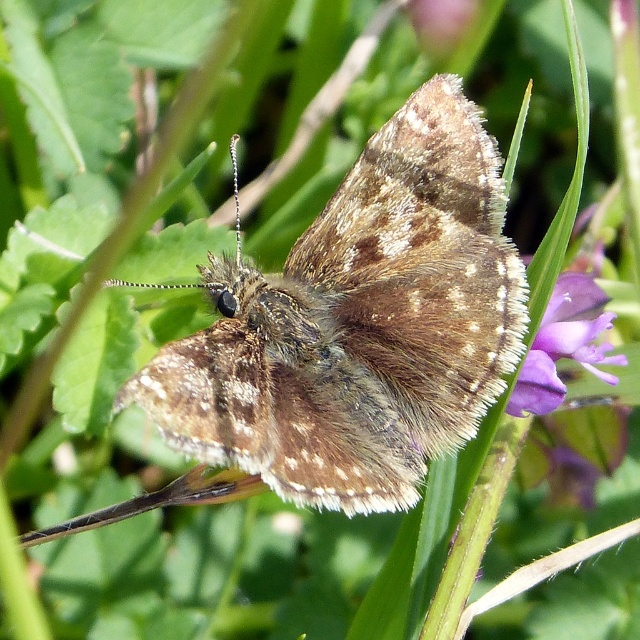Butterfly: (86, 94, 524, 568)
